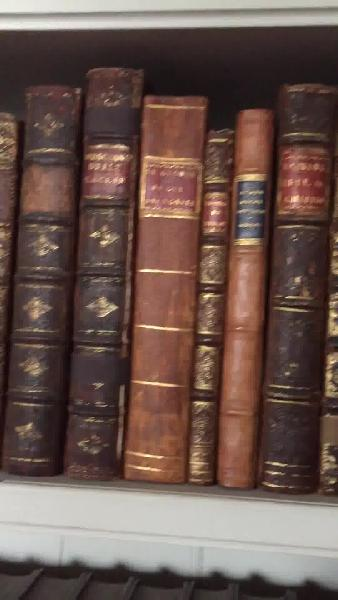Aa6-31: (21, 77, 70, 474)
Aa6-32: (62, 56, 137, 476)
Aa6-33: (131, 84, 203, 487)
Aa6-34: (190, 124, 231, 488)
Aa6-35: (219, 105, 278, 495)
Aa6-36: (265, 84, 338, 465)
